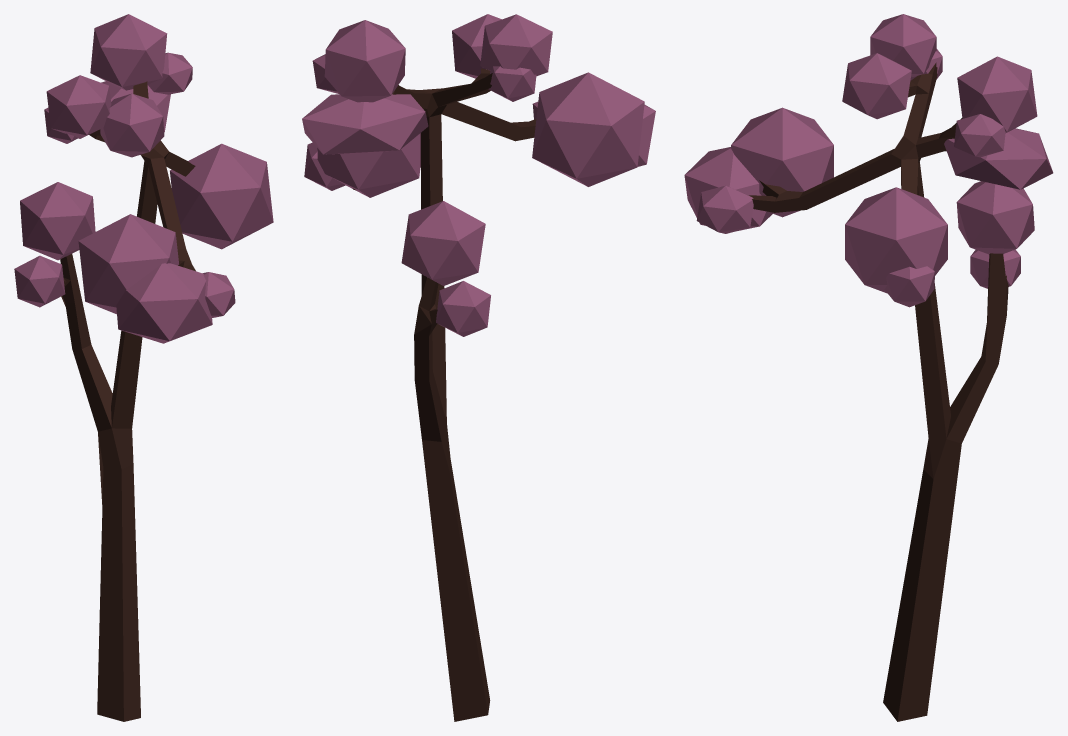
The model's file is Mesh_Tree3.fbx.
3 renders of one model, left to right at view 1: azimuth 30°, elevation 25°; view 2: azimuth 150°, elevation 25°; view 3: azimuth 270°, elevation 25°, orthographic. The views are drawn at different scales.
Visible parts, largest first — view 1: Cube.002, Icosphere.023, Icosphere.030, Icosphere.031, Icosphere.021, Icosphere.027, Icosphere.026; view 2: Cube.002, Icosphere.031, Icosphere.023, Icosphere.027, Icosphere.021, Icosphere.030, Icosphere.026, Icosphere; view 3: Cube.002, Icosphere.023, Icosphere.031, Icosphere.030, Icosphere.021, Icosphere.027, Icosphere.026.
Part boxes in pixels (x1=…): Cube.002: x1=60, y1=81, x2=195, y2=721; Icosphere.023: x1=78, y1=214, x2=235, y2=343; Icosphere.030: x1=170, y1=143, x2=273, y2=249; Icosphere.031: x1=90, y1=14, x2=192, y2=131; Icosphere.021: x1=46, y1=75, x2=164, y2=157; Icosphere.027: x1=20, y1=182, x2=95, y2=260; Icosphere.026: x1=14, y1=255, x2=65, y2=307; Cube.002: x1=353, y1=68, x2=536, y2=721; Icosphere.031: x1=302, y1=20, x2=428, y2=154; Icosphere.023: x1=532, y1=72, x2=655, y2=186; Icosphere.027: x1=401, y1=201, x2=485, y2=285; Icosphere.021: x1=452, y1=14, x2=552, y2=78; Icosphere.030: x1=304, y1=133, x2=420, y2=197; Icosphere.026: x1=436, y1=281, x2=490, y2=336; Icosphere: x1=488, y1=66, x2=536, y2=101; Cube.002: x1=749, y1=62, x2=1008, y2=721; Icosphere.023: x1=684, y1=107, x2=833, y2=233; Icosphere.031: x1=944, y1=56, x2=1053, y2=189; Icosphere.030: x1=845, y1=187, x2=947, y2=307; Icosphere.021: x1=842, y1=14, x2=936, y2=119; Icosphere.027: x1=956, y1=181, x2=1034, y2=254; Icosphere.026: x1=970, y1=249, x2=1020, y2=288.
Bounding box in the file's own units: 3609 × 9383 × 4590.
